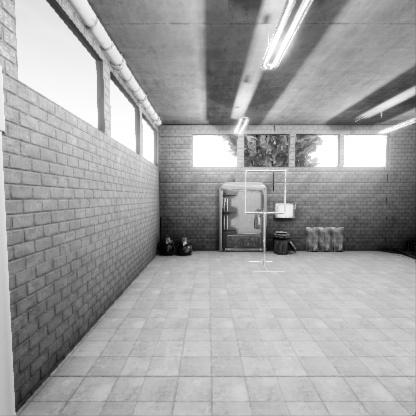gate: (244, 204, 289, 247)
